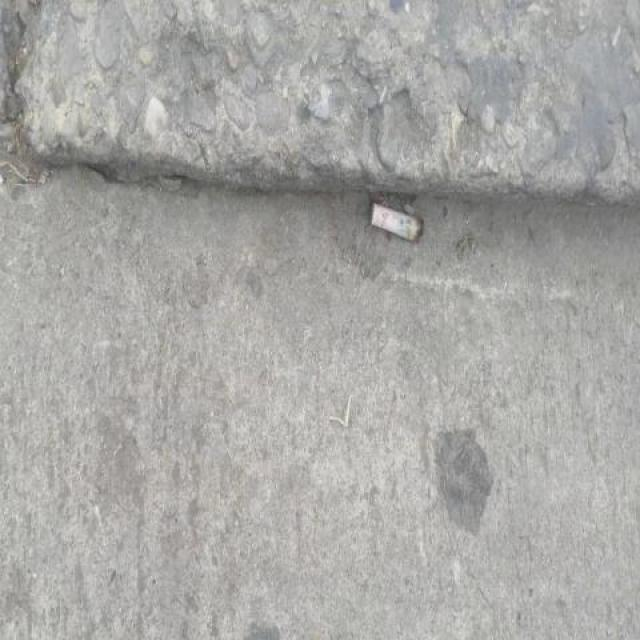non-organic waste: (368, 200, 428, 249)
